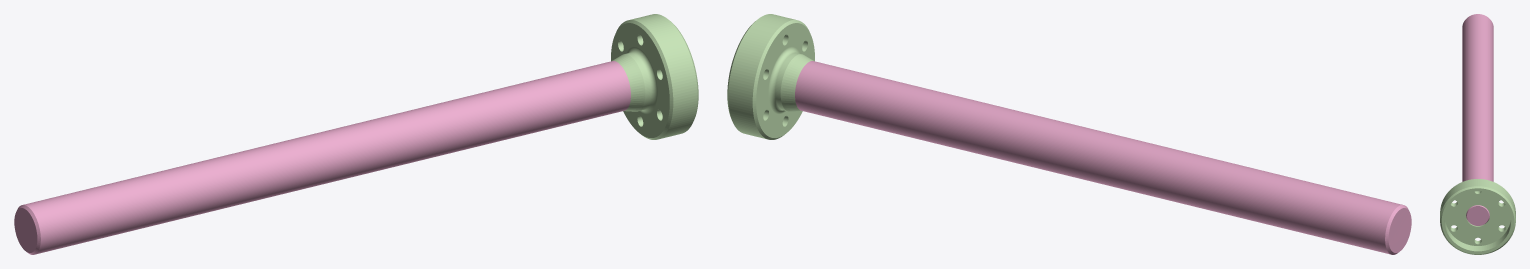
The picture shows the model from 3 angles, left to right: view 1: azimuth 30°, elevation 25°; view 2: azimuth 150°, elevation 25°; view 3: azimuth 270°, elevation 25°; orthographic projection. The views are drawn at different scales.
Parts seen in each view (by area): view 1: Node2, Node1; view 2: Node2, Node1; view 3: Node2, Node1.
Part boxes in pixels (bbox=[...]): Node2: bbox=[14, 61, 630, 254]; Node1: bbox=[611, 14, 698, 139]; Node2: bbox=[795, 61, 1411, 254]; Node1: bbox=[727, 14, 814, 139]; Node2: bbox=[1462, 14, 1493, 225]; Node1: bbox=[1440, 179, 1515, 254].
Size of the model in its own units: 290 by 48 by 47.99.
